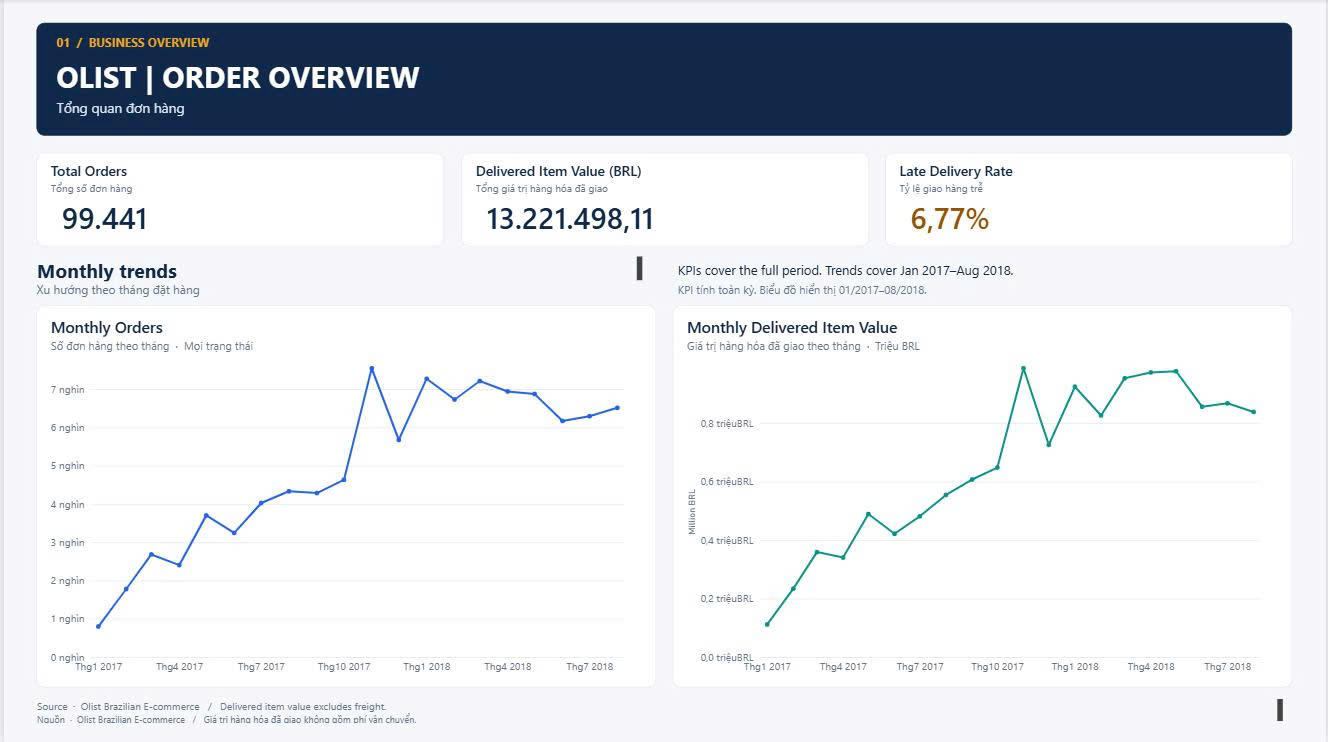

This screenshot's page, from the dashboard's own definition file:
{"tool":"powerbi","page":{"name":"Order Overview","canvas":[1920,1080],"ordinal":0},"visuals":[{"type":"textbox","box":[48,34,1824,164],"z":0},{"type":"textbox","box":[76,51,1600,32],"z":1000},{"type":"textbox","box":[76,83,1670,58],"z":2000},{"type":"textbox","box":[76,143,1660,32],"z":3000},{"type":"cardVisual","title":"Total Orders","fields":{"Data":["olist_orders.Total Orders"]},"box":[48,224,592,136],"z":4000},{"type":"cardVisual","title":"Delivered Item Value (BRL)","fields":{"Data":["v_olist_order_items_clean.Total Item Value"]},"box":[664,224,592,136],"z":5000},{"type":"cardVisual","title":"Late Delivery Rate","fields":{"Data":["olist_orders.Late Delivery Rate"]},"box":[1280,224,592,136],"z":6000},{"type":"textbox","box":[48,374,880,36],"z":7000},{"type":"textbox","box":[48,411,880,29],"z":8000},{"type":"lineChart","title":"Monthly Orders","fields":{"Category":["olist_orders.Purchase Month"],"Y":["olist_orders.Total Orders"]},"box":[48,445,900,555],"z":9000},{"type":"lineChart","title":"Monthly Delivered Item Value","fields":{"Category":["olist_orders.Purchase Month"],"Y":["v_olist_order_items_clean.Total Item Value"]},"box":[972,445,900,555],"z":10000},{"type":"textbox","box":[48,1016,1810,35],"z":11000},{"type":"textbox","box":[978,382,880,29],"z":12000},{"type":"textbox","box":[978,411,880,29],"z":13000}]}

Visuals, with their boxes in screenshot pixels (x1, y1, x2, y2), scaled from the page's 1920x1080 canvas onto the 1328x742 screenshot:
textbox: <bbox>33, 23, 1295, 136</bbox>
textbox: <bbox>53, 35, 1159, 57</bbox>
textbox: <bbox>53, 57, 1208, 97</bbox>
textbox: <bbox>53, 98, 1201, 120</bbox>
"Total Orders" cardVisual: <bbox>33, 154, 443, 247</bbox>
"Delivered Item Value (BRL)" cardVisual: <bbox>459, 154, 869, 247</bbox>
"Late Delivery Rate" cardVisual: <bbox>885, 154, 1295, 247</bbox>
textbox: <bbox>33, 257, 642, 282</bbox>
textbox: <bbox>33, 282, 642, 302</bbox>
"Monthly Orders" lineChart: <bbox>33, 306, 656, 687</bbox>
"Monthly Delivered Item Value" lineChart: <bbox>672, 306, 1295, 687</bbox>
textbox: <bbox>33, 698, 1285, 722</bbox>
textbox: <bbox>676, 262, 1285, 282</bbox>
textbox: <bbox>676, 282, 1285, 302</bbox>
